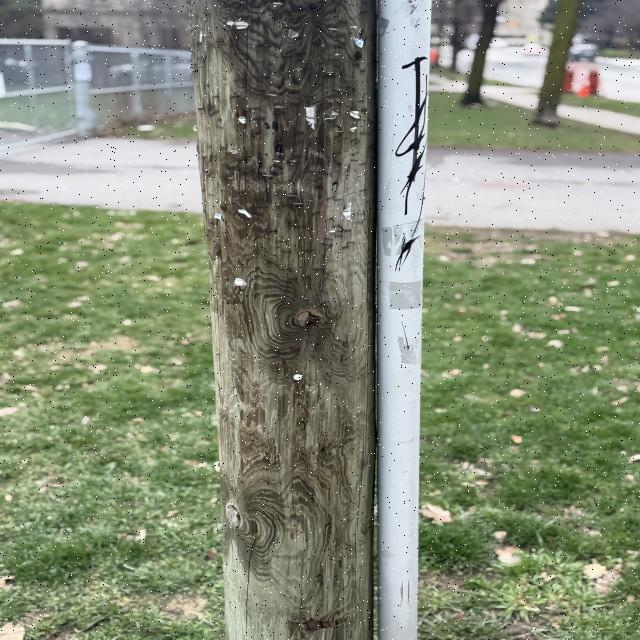Electrical Pole: (181, 4, 380, 639)
